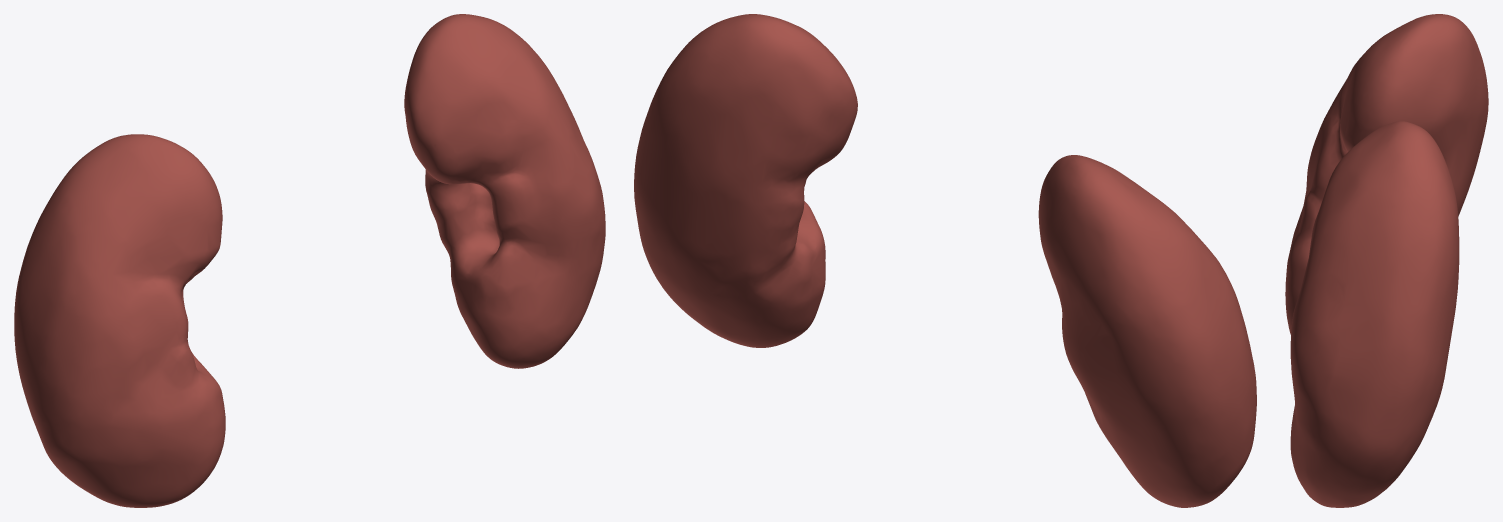
Rendered from kidneys.glb.
3 renders of one model, left to right at view 1: azimuth 30°, elevation 25°; view 2: azimuth 150°, elevation 25°; view 3: azimuth 270°, elevation 25°, orthographic. The views are drawn at different scales.
Parts seen in each view (by area): view 1: FMA7204, FMA7205; view 2: FMA7205, FMA7204; view 3: FMA7205, FMA7204.
Part boxes in pixels (box(x1,y1,x2,y2)): FMA7204: box(14, 134, 225, 507); FMA7205: box(404, 14, 605, 368); FMA7205: box(634, 14, 857, 347); FMA7204: box(1038, 155, 1256, 507); FMA7205: box(1290, 121, 1459, 507); FMA7204: box(1285, 14, 1488, 334).
Bounding box in the file's own units: 3.3 × 2.16 × 0.9696.
